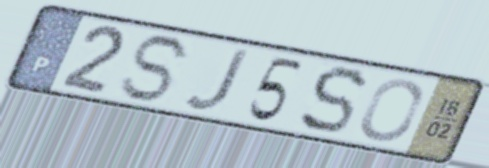2: (58, 23, 127, 98)
5: (245, 53, 307, 122)
J: (182, 47, 255, 114)
O: (358, 77, 426, 144)
S: (115, 32, 198, 105), (296, 64, 370, 137)
